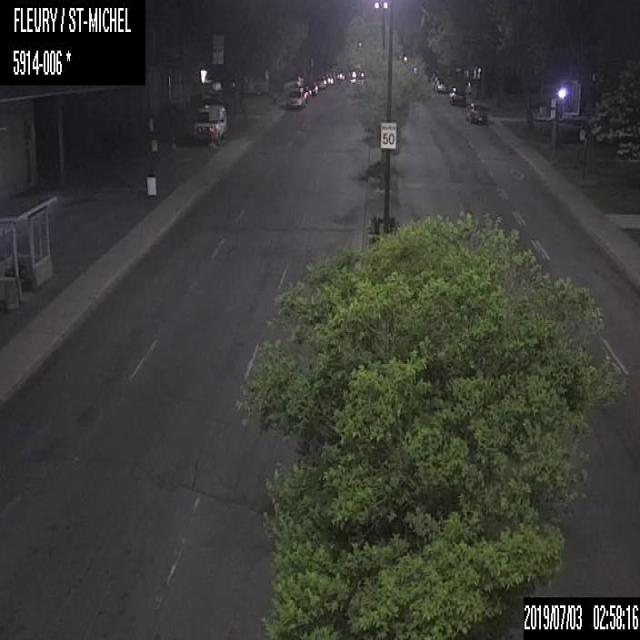vehicle: (188, 102, 228, 143), (284, 85, 306, 109), (464, 102, 487, 122), (434, 77, 452, 95), (450, 86, 466, 105)
